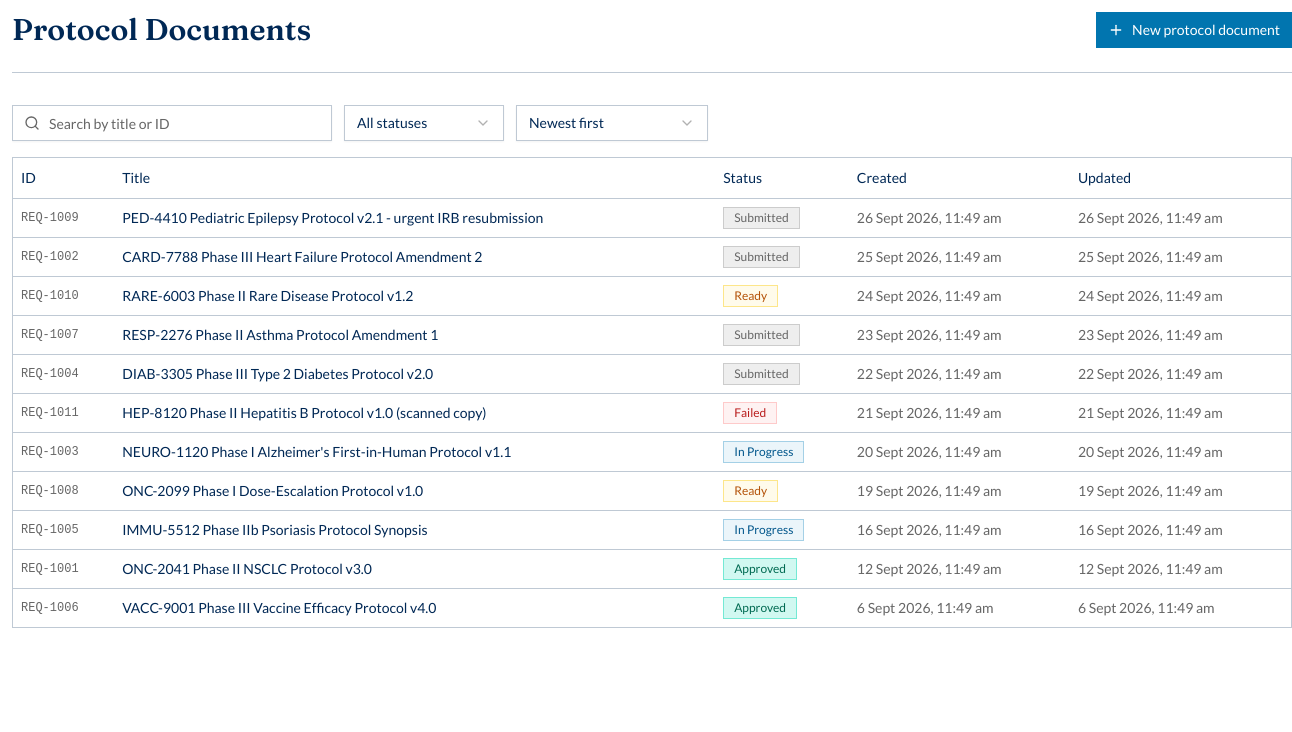
Test: RequestsListPage › filters the list by search text
Type "VACC-9001" into the search field named "search protocol documents" at (172, 123), box [12, 105, 332, 141]
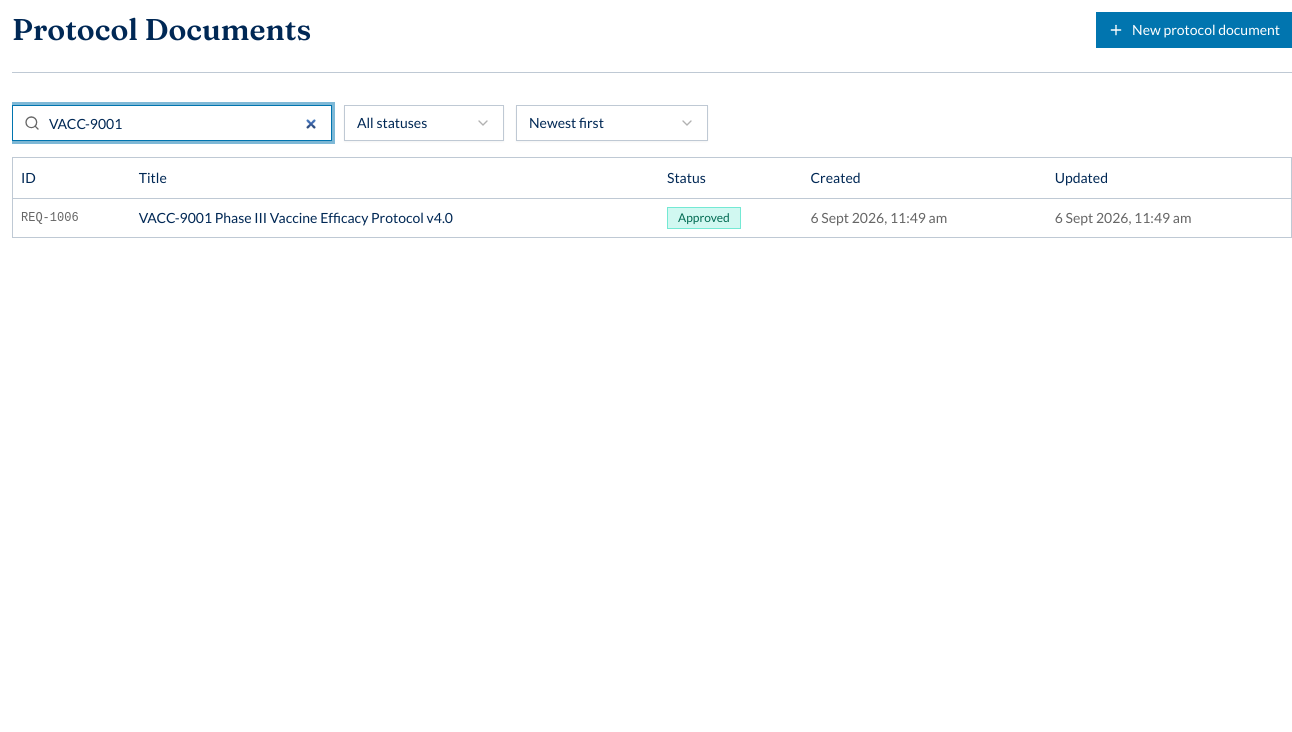
Expected: the text "ONC-2041 Phase II NSCLC Protocol v3.0" is not shown
